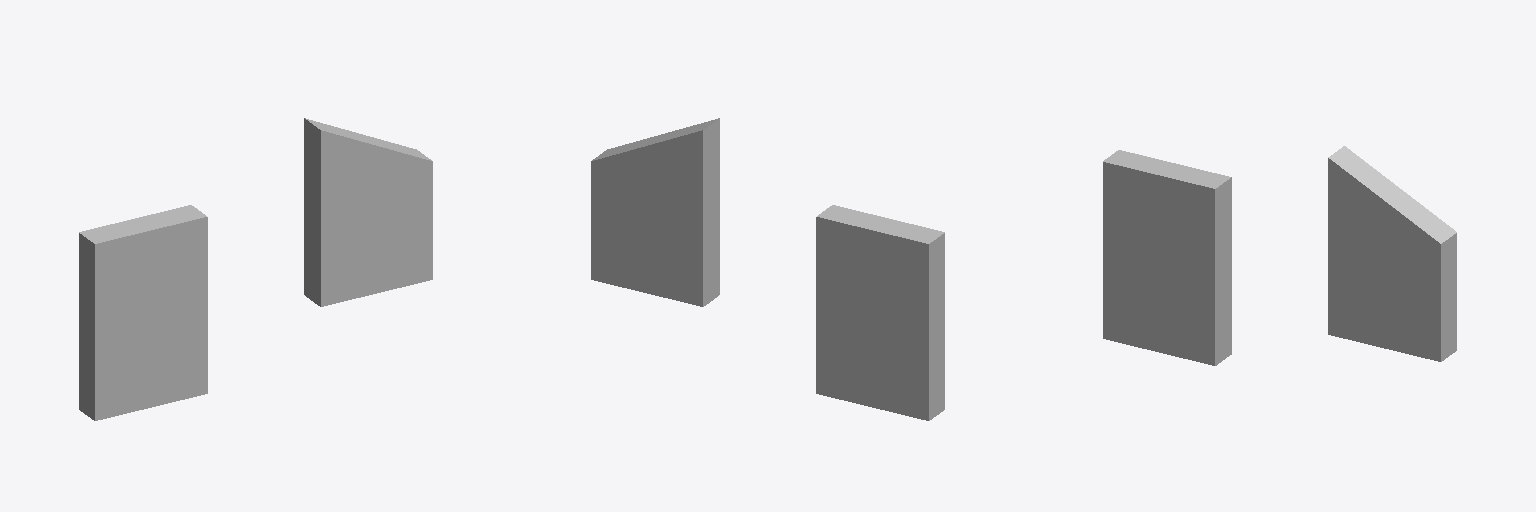
Rendered from construct_eyes_confused.obj.
3 renders of one model, left to right at view 1: azimuth 30°, elevation 25°; view 2: azimuth 150°, elevation 25°; view 3: azimuth 330°, elevation 25°, orthographic.
Visible parts, largest first — view 1: EYES_CONFUSED_Cube.034; view 2: EYES_CONFUSED_Cube.034; view 3: EYES_CONFUSED_Cube.034.
Part boxes in pixels (bbox=[...]): EYES_CONFUSED_Cube.034: bbox=[79, 118, 432, 420]; EYES_CONFUSED_Cube.034: bbox=[591, 118, 944, 420]; EYES_CONFUSED_Cube.034: bbox=[1103, 146, 1456, 365].
Bounding box in the file's own units: 0.1875 × 0.125 × 0.0156.